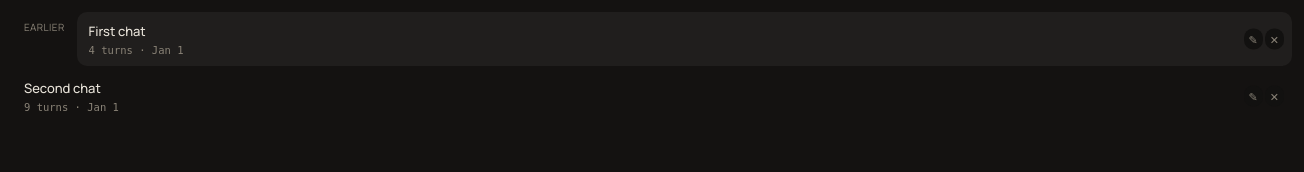
Test: ConversationList › dismisses the delete confirm on Escape
The image size is (1304, 172).
Step 1. Click the button named "Delete First chat" → (1274, 39), box x1=1265 y1=28 x2=1284 y2=50
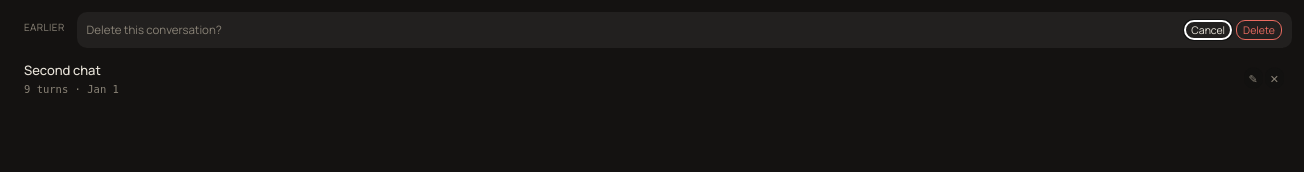
Cancel takes focus on open, so Escape reaches the handler without tabbing.
Step 2. Press Escape
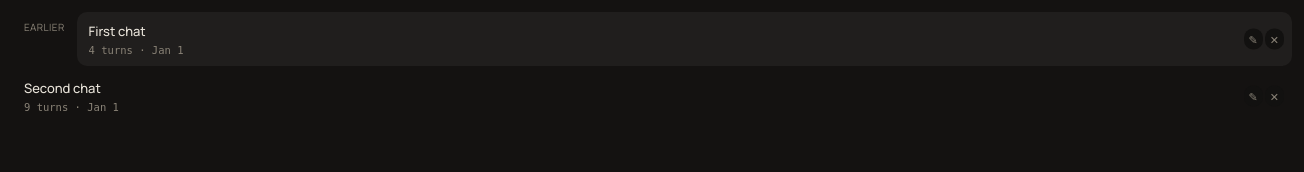
Result: the text "Delete this conversation?" is gone
Result: the button named "Delete First chat" is shown at x1=1265 y1=28 x2=1284 y2=50
